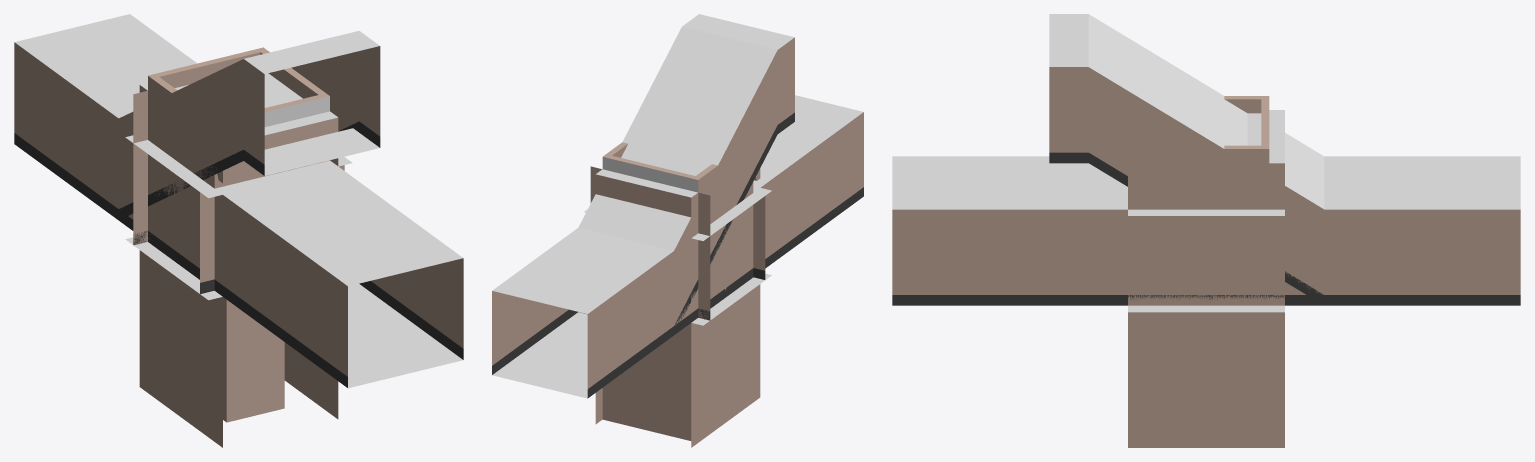
File: labblock.dae
3 views of the same model, side by side, from view 1: azimuth 30°, elevation 25°; view 2: azimuth 150°, elevation 25°; view 3: azimuth 270°, elevation 25° (orthographic). The views are drawn at different scales.
Parts seen in each view (by area): view 1: laboratory_path_block_straight_l4, laboratory_path_block_ascend, laboratory_path_block_pitside_start, laboratory_path_block_pitside_center, laboratory_room_bridge_mirrorattacher, laboratory_path_block_pitside_island, laboratory_path_block_straight_l2, laboratory_room_top_center_access_vert, laboratory_path_block_junc4, laboratory_room_top_access, laboratory_room_top_corner, laboratory_room_mid_corner (+3 smaller); view 2: laboratory_path_block_straight_l4, laboratory_path_block_ascend, laboratory_path_block_pitside_start, laboratory_room_bridge_mirrorattacher, laboratory_path_block_junc4, laboratory_path_block_pitside_center, laboratory_room_top_access, laboratory_room_base_corner, laboratory_room_mid_access, laboratory_room_top_corner, laboratory_room_mid_corner, laboratory_room_top_center_access_vert (+2 smaller); view 3: laboratory_path_block_straight_l4, laboratory_path_block_ascend, laboratory_path_block_pitside_start, laboratory_room_top_side, laboratory_room_mid_side, laboratory_room_bridge_mirrorattacher, laboratory_path_block_pitside_center, laboratory_room_base_center_access_vert, laboratory_room_top_center_access_vert, laboratory_path_block_straight_l2, laboratory_room_base_side, laboratory_room_top_corner (+1 smaller).
Boxes of the visible parts, bbox=[...] form: laboratory_path_block_straight_l4: bbox=[14, 14, 463, 388]; laboratory_path_block_ascend: bbox=[97, 31, 380, 220]; laboratory_path_block_pitside_start: bbox=[148, 162, 338, 447]; laboratory_path_block_pitside_center: bbox=[139, 165, 296, 416]; laboratory_room_bridge_mirrorattacher: bbox=[139, 47, 338, 183]; laboratory_path_block_pitside_island: bbox=[223, 297, 284, 422]; laboratory_path_block_straight_l2: bbox=[189, 161, 377, 298]; laboratory_room_top_center_access_vert: bbox=[125, 91, 352, 198]; laboratory_path_block_junc4: bbox=[200, 157, 344, 294]; laboratory_room_top_access: bbox=[133, 140, 349, 245]; laboratory_room_top_corner: bbox=[133, 149, 297, 244]; laboratory_room_mid_corner: bbox=[133, 90, 147, 244]; laboratory_path_block_straight_l4: bbox=[492, 95, 863, 398]; laboratory_path_block_ascend: bbox=[561, 14, 794, 347]; laboratory_path_block_pitside_start: bbox=[602, 186, 760, 442]; laboratory_room_bridge_mirrorattacher: bbox=[595, 142, 760, 228]; laboratory_path_block_junc4: bbox=[698, 193, 765, 279]; laboratory_path_block_pitside_center: bbox=[595, 323, 698, 447]; laboratory_room_top_access: bbox=[691, 200, 758, 322]; laboratory_room_base_corner: bbox=[698, 194, 768, 319]; laboratory_room_mid_access: bbox=[590, 166, 710, 268]; laboratory_room_top_corner: bbox=[698, 188, 770, 312]; laboratory_room_mid_corner: bbox=[698, 195, 710, 320]; laboratory_room_top_center_access_vert: bbox=[584, 171, 771, 240]; laboratory_path_block_straight_l4: bbox=[892, 156, 1520, 305]; laboratory_path_block_ascend: bbox=[1049, 14, 1363, 305]; laboratory_path_block_pitside_start: bbox=[1128, 312, 1269, 447]; laboratory_room_top_side: bbox=[1128, 216, 1284, 305]; laboratory_room_mid_side: bbox=[1128, 163, 1284, 282]; laboratory_room_bridge_mirrorattacher: bbox=[1143, 96, 1284, 163]; laboratory_path_block_pitside_center: bbox=[1269, 312, 1284, 447]; laboratory_room_base_center_access_vert: bbox=[1128, 305, 1284, 312]; laboratory_room_top_center_access_vert: bbox=[1128, 209, 1284, 215]; laboratory_path_block_straight_l2: bbox=[1049, 164, 1127, 209]; laboratory_room_base_side: bbox=[1128, 163, 1284, 299]; laboratory_room_top_corner: bbox=[1128, 216, 1150, 305].
Size of the model in its own units: 4 by 16 by 10.7.
